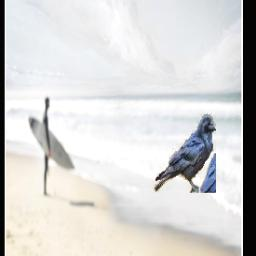Crow: (153, 114, 217, 193)
